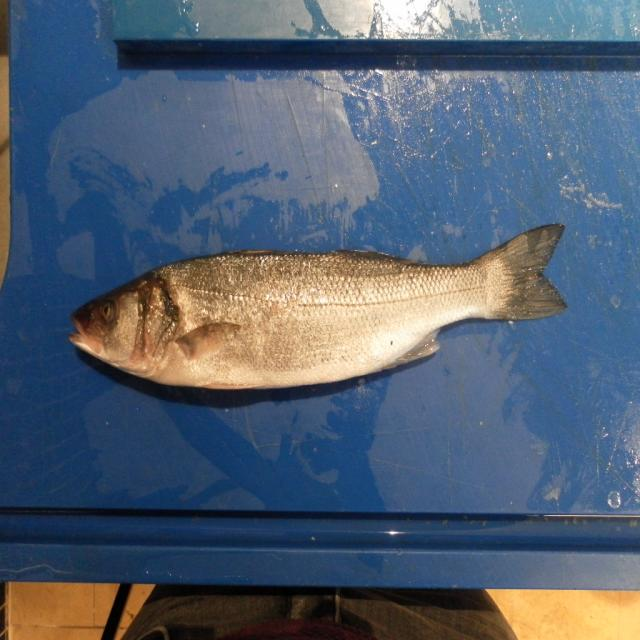Sea-Bass-levrek-: (70, 224, 568, 393)
